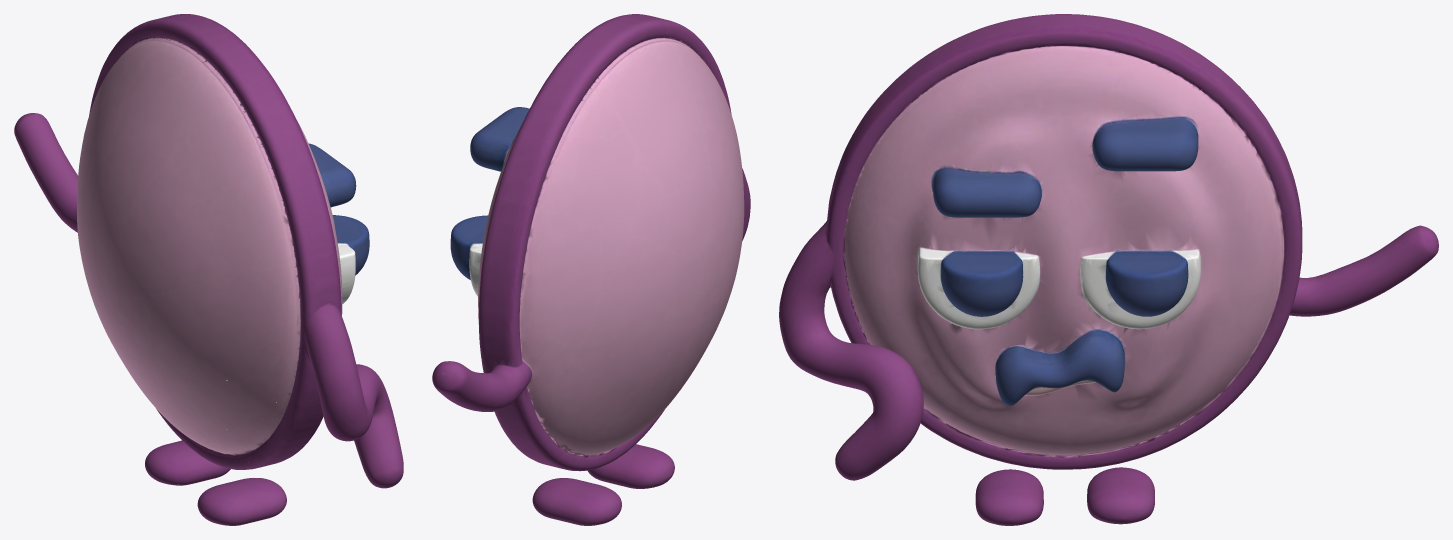
File: chan-ghet.glb
3 renders of one model, left to right at view 1: azimuth 30°, elevation 25°; view 2: azimuth 150°, elevation 25°; view 3: azimuth 270°, elevation 25°, orthographic. The views are drawn at different scales.
Parts seen in each view (by area): view 1: tripo_node_87053baa-54b7-450f-87b8-6d26321497cf; view 2: tripo_node_87053baa-54b7-450f-87b8-6d26321497cf; view 3: tripo_node_87053baa-54b7-450f-87b8-6d26321497cf.
Part boxes in pixels (x1,y1,x2,y2): tripo_node_87053baa-54b7-450f-87b8-6d26321497cf: (14,14,403,525); tripo_node_87053baa-54b7-450f-87b8-6d26321497cf: (432,14,750,525); tripo_node_87053baa-54b7-450f-87b8-6d26321497cf: (779,14,1438,525).
Size of the model in its own units: 0.3842 by 0.8003 by 0.9799.
1 material, 1 textured.
